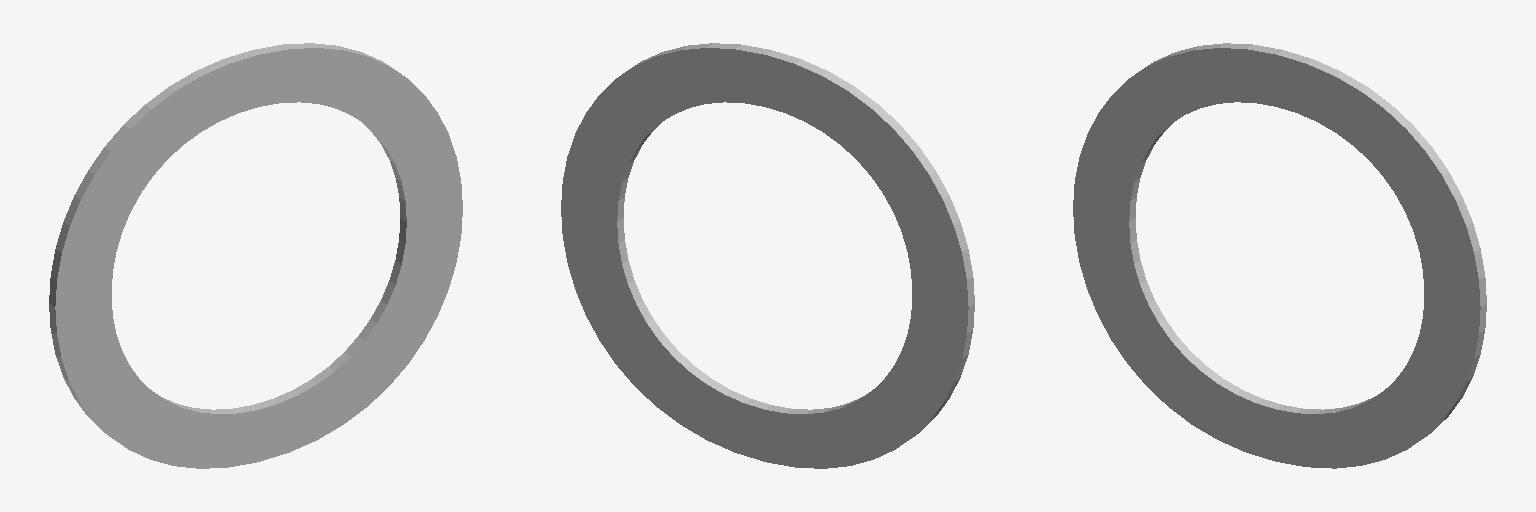
Rendered from O_uvs_no_normals.obj.
3 renders of one model, left to right at view 1: azimuth 30°, elevation 25°; view 2: azimuth 150°, elevation 25°; view 3: azimuth 330°, elevation 25°, orthographic.
Parts seen in each view (by area): view 1: Text_CUText; view 2: Text_CUText; view 3: Text_CUText.
Part boxes in pixels (bbox=[...]): Text_CUText: bbox=[49, 43, 462, 468]; Text_CUText: bbox=[561, 43, 974, 468]; Text_CUText: bbox=[1073, 43, 1486, 468].
Bounding box in the file's own units: 0.733 × 0.7 × 0.02.